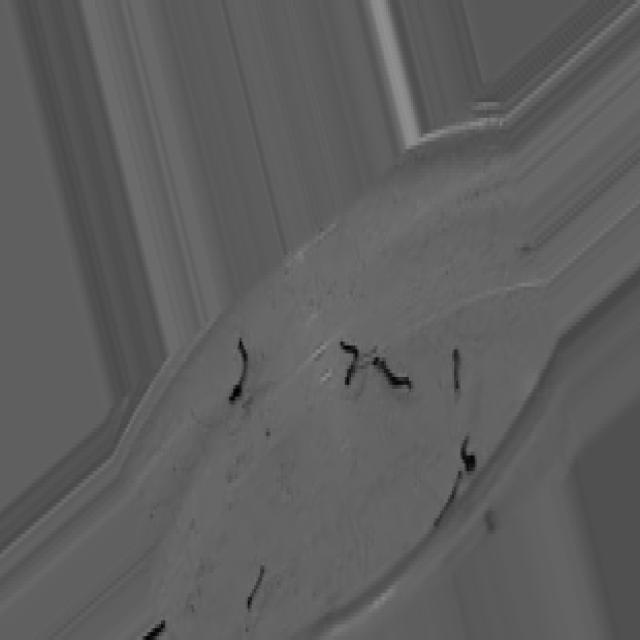larvas: (428, 466, 464, 528), (372, 355, 410, 391), (230, 339, 247, 407), (341, 336, 357, 382), (246, 568, 262, 604), (144, 615, 166, 640), (458, 437, 475, 469), (352, 348, 382, 366), (453, 347, 461, 389)
